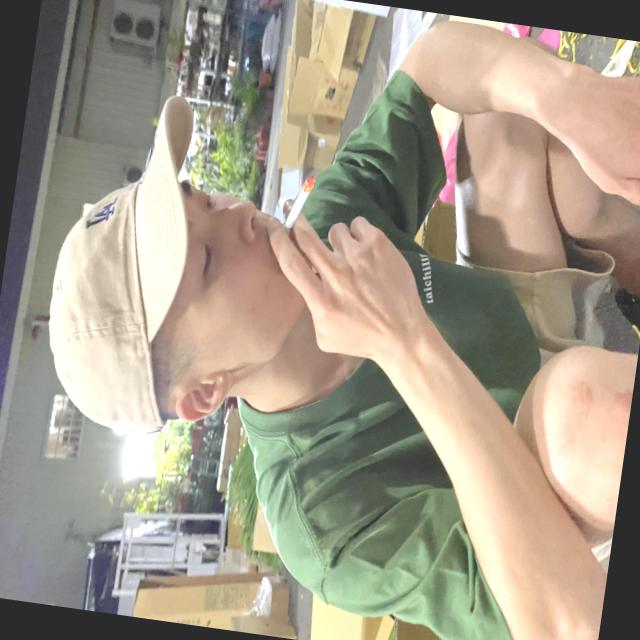smoke: (271, 156, 325, 266)
